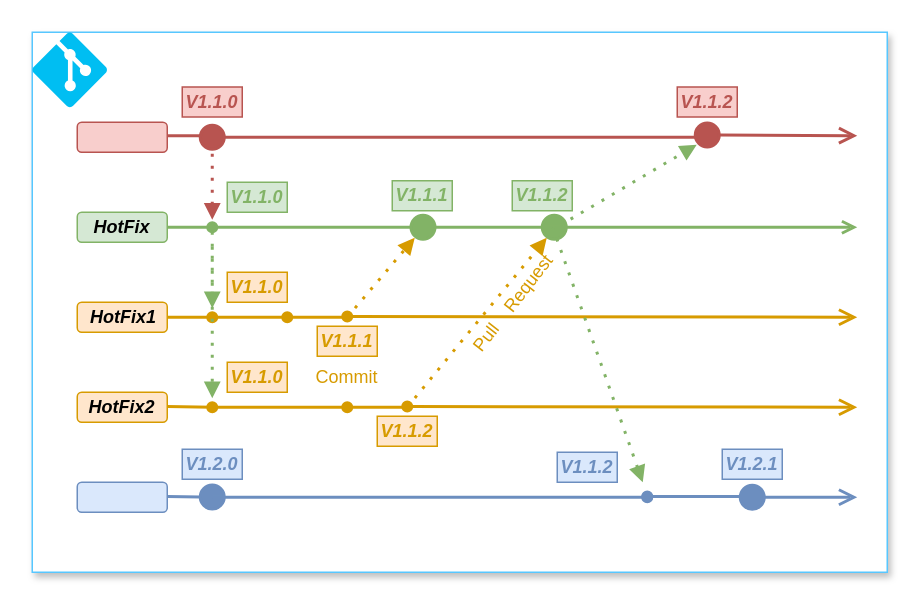
Image size: 923x609. Some labels were removed from this diagram. Each missing label, with the centre of its shape:
"Dev" belongs at point 121,496.
"Master" belongs at point 121,136.
